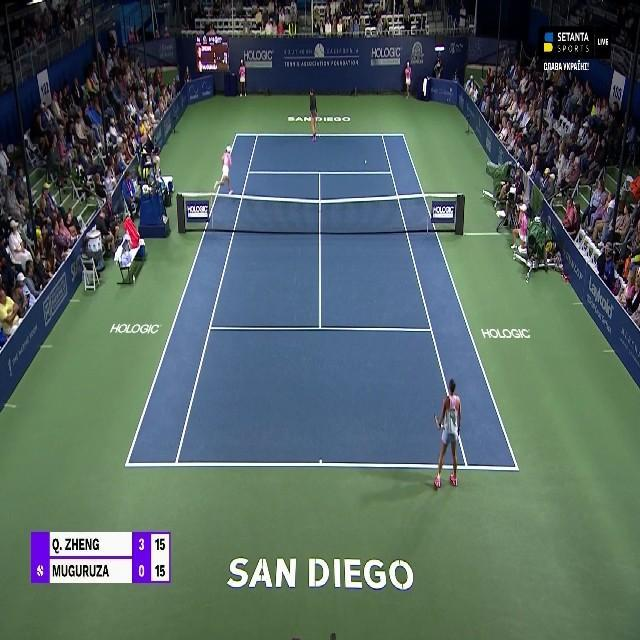left side: (382, 135, 518, 470), (125, 134, 258, 466)
player: (432, 378, 464, 489), (307, 88, 320, 142)
